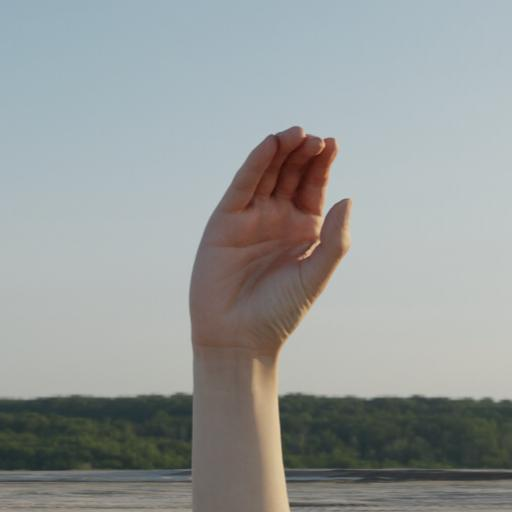C: (185, 125, 362, 340)
